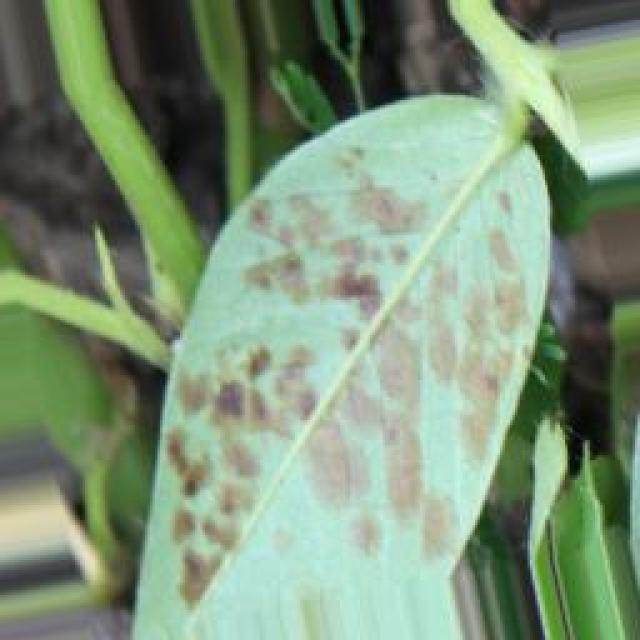Whitefly: (116, 100, 560, 600)
